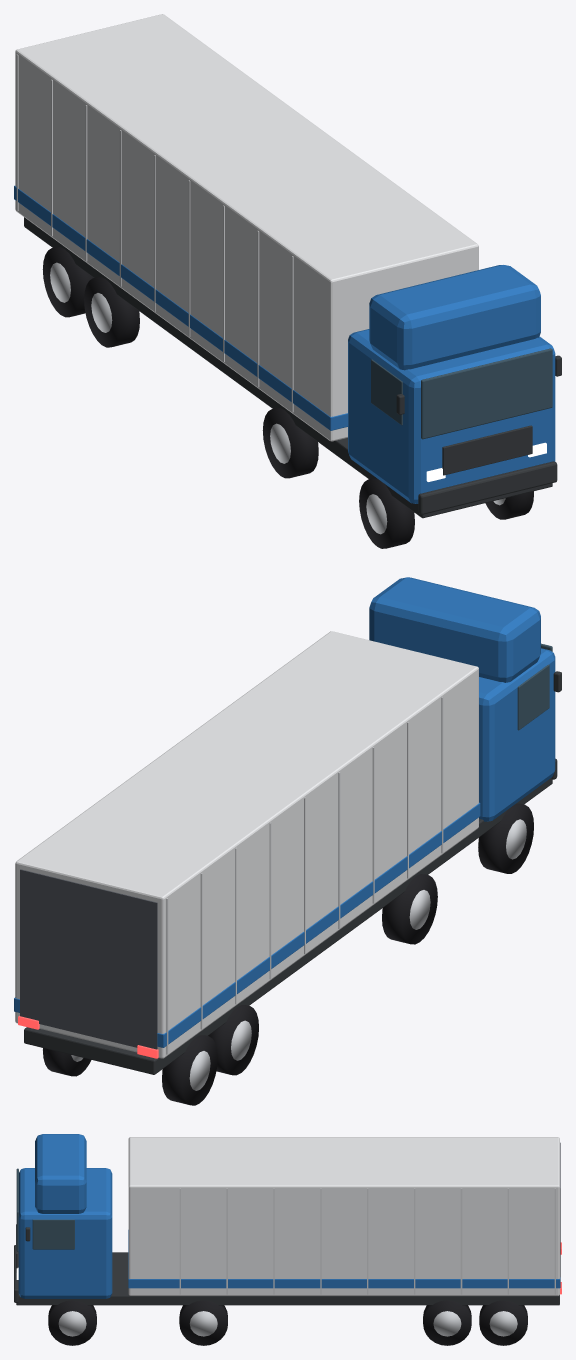
File: truck.glb
The picture shows the model from 3 angles, top to bottom: view 1: azimuth 30°, elevation 25°; view 2: azimuth 150°, elevation 25°; view 3: azimuth 270°, elevation 25°; orthographic projection. The views are drawn at different scales.
Parts seen in each view (by area): view 1: Cube; view 2: Cube; view 3: Cube.
Boxes of the visible parts, x1,y1,x2,y2 form: Cube: (14, 14, 561, 548); Cube: (14, 577, 561, 1105); Cube: (14, 1134, 561, 1345).
Bounding box in the file's own units: 2.74 × 3.95 × 11.7.
